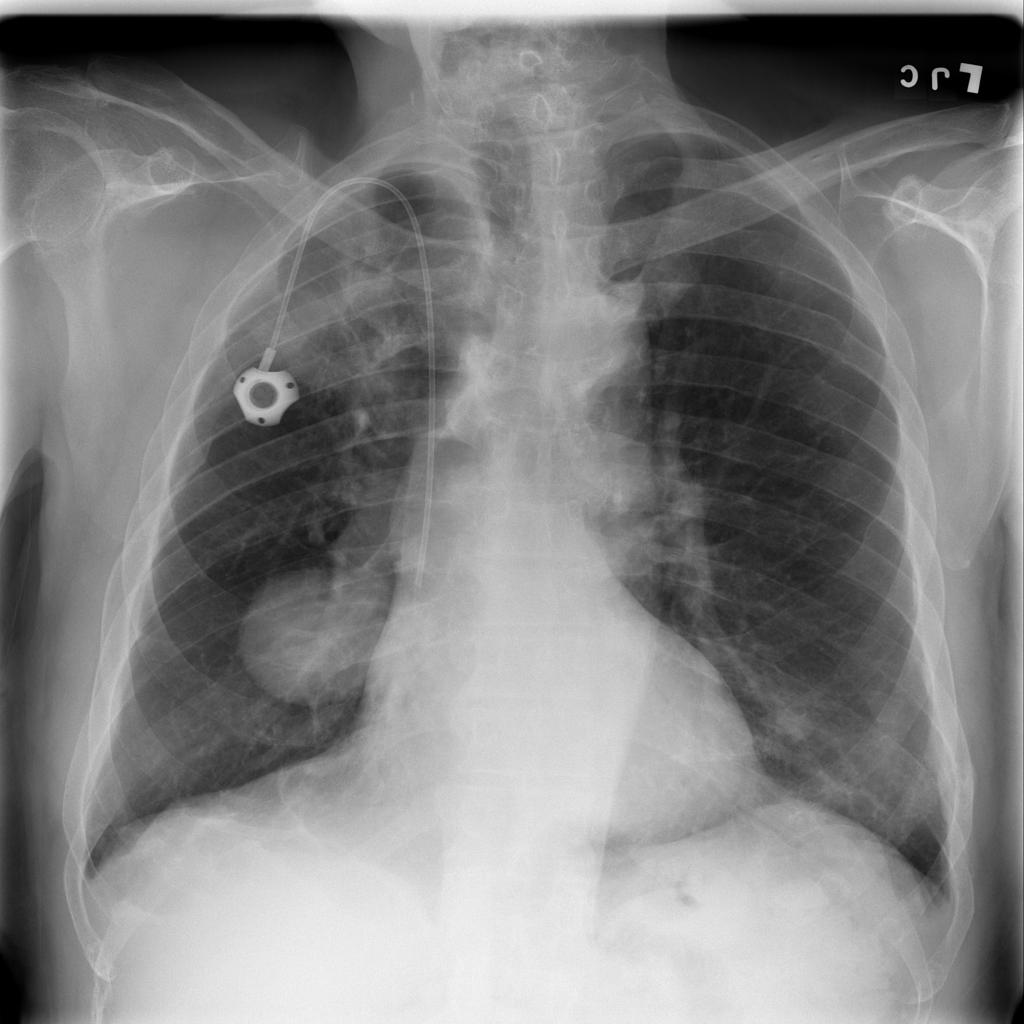nodule: (227, 543, 402, 717), (750, 686, 831, 754)
